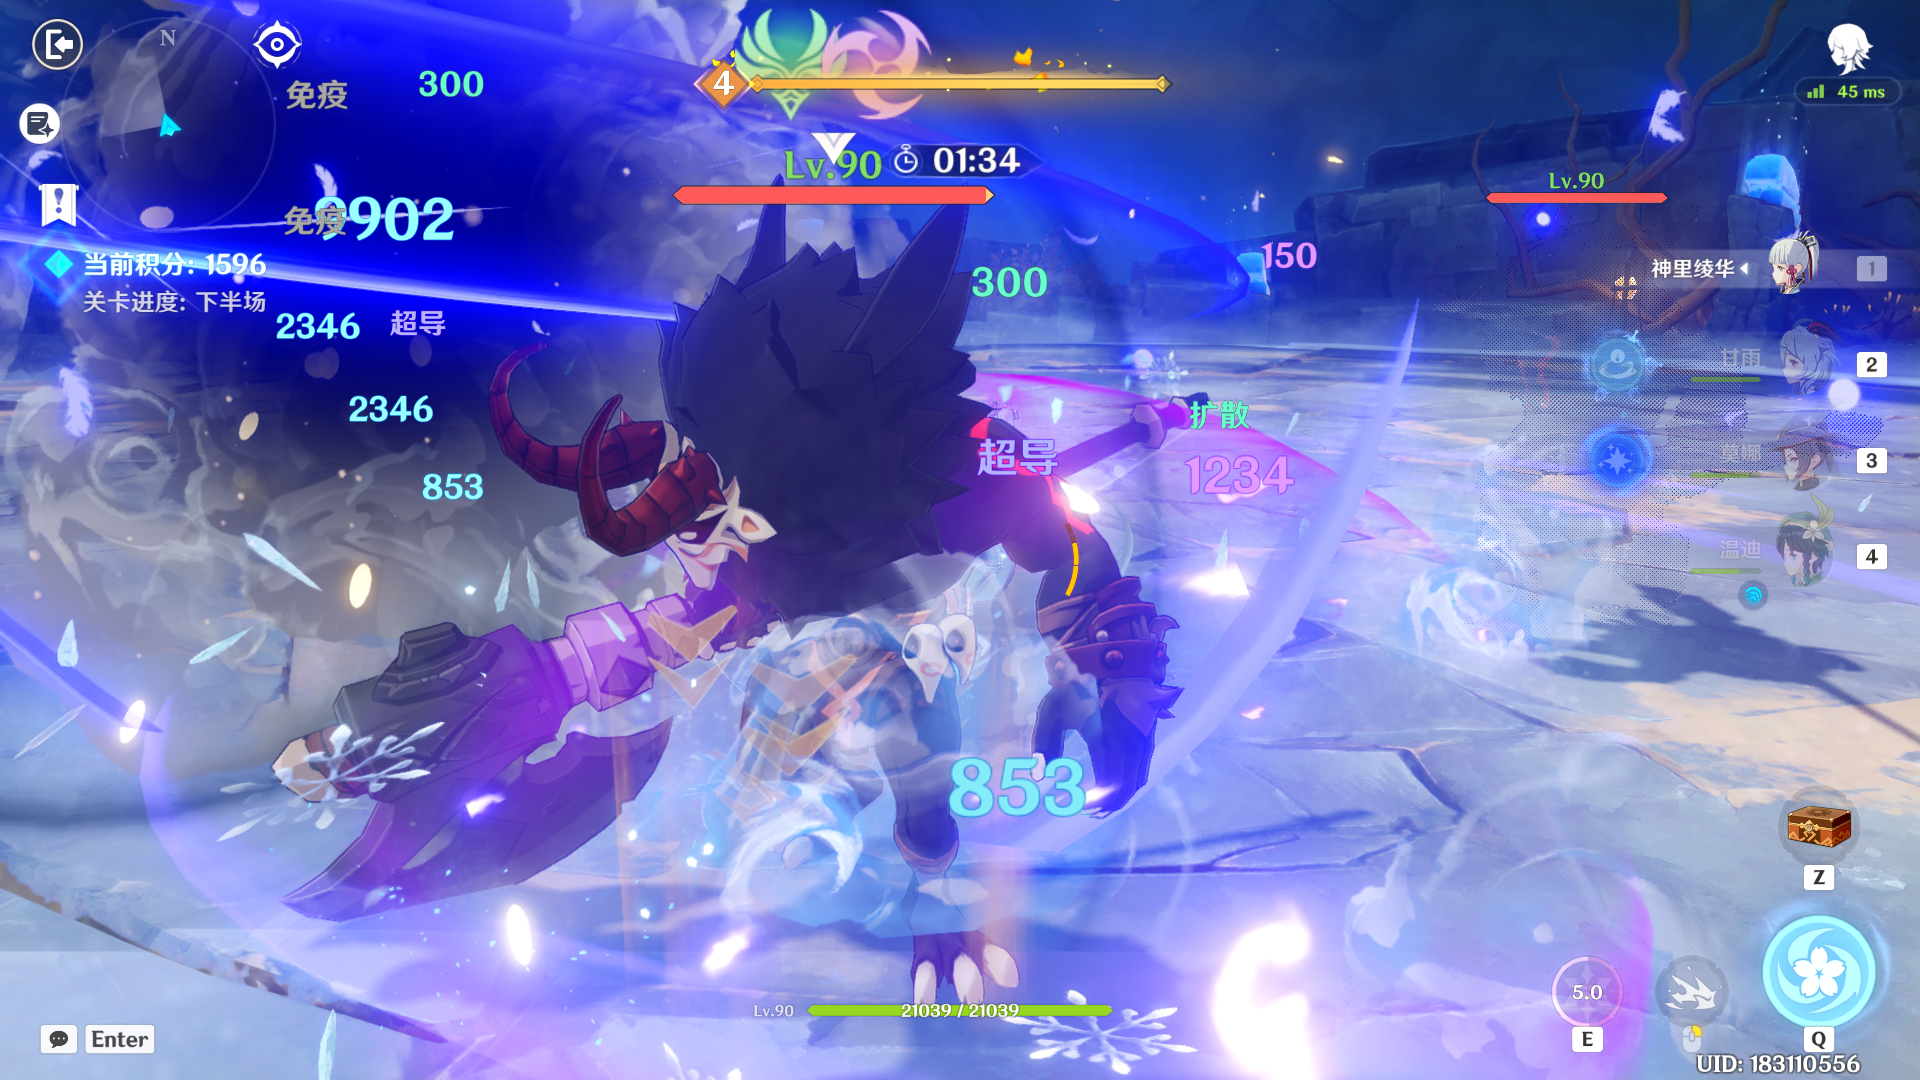bighili: (266, 216, 1162, 994)
